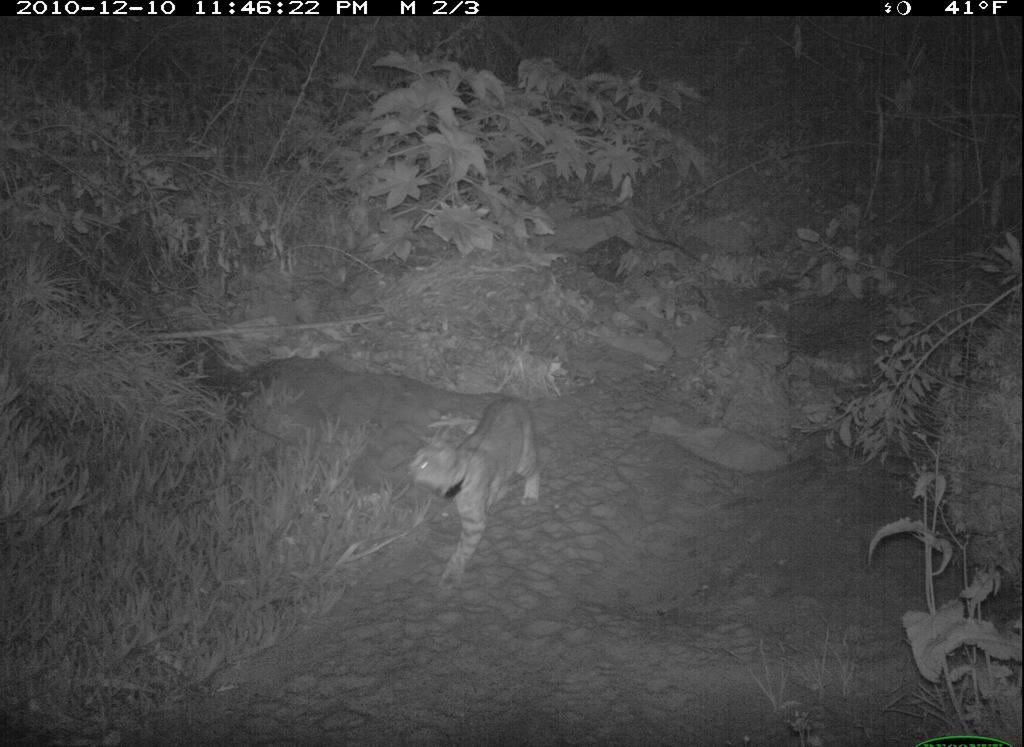bobcat: (398, 392, 557, 603)
